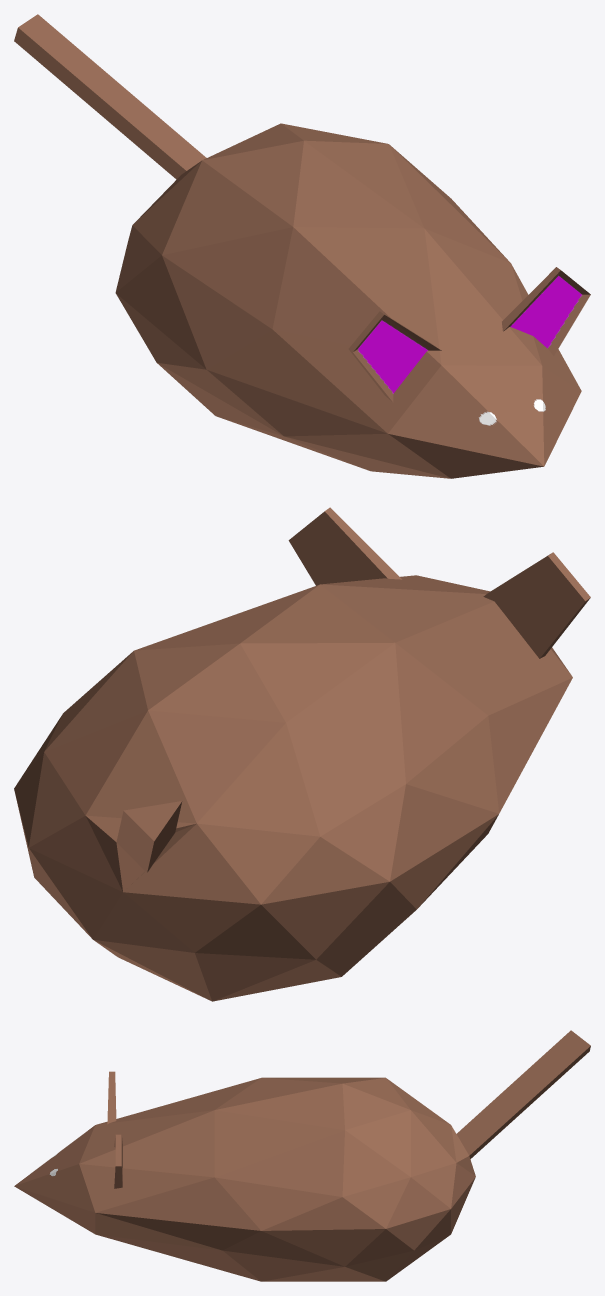
Rendered from rat.obj.
The picture shows the model from 3 angles, top to bottom: view 1: azimuth 30°, elevation 25°; view 2: azimuth 150°, elevation 25°; view 3: azimuth 270°, elevation 25°; orthographic projection. The views are drawn at different scales.
Visible parts, largest first — view 1: ICO球; view 2: ICO球; view 3: ICO球.
Boxes of the visible parts, x1,y1,x2,y2 form: ICO球: [14, 14, 590, 478]; ICO球: [14, 507, 590, 1001]; ICO球: [14, 1030, 590, 1281].
Bounding box in the file's own units: 1.9 × 1.75 × 4.43.
1 material, 1 textured.
